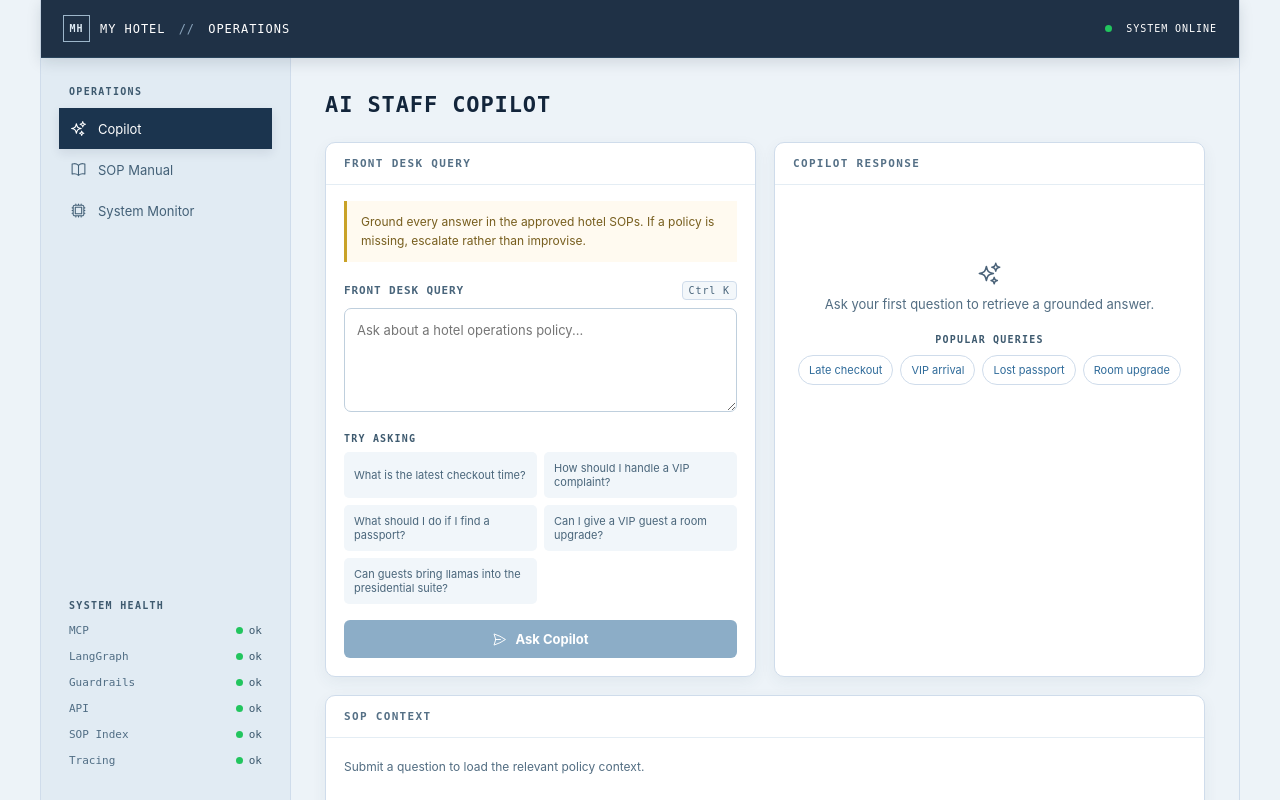
Test: App › shows a request receipt after a demo question hits the API
Step 1. Click the button "What is the latest checkout time?" → (440,475), box [344,452,537,498]
(page scrolled)
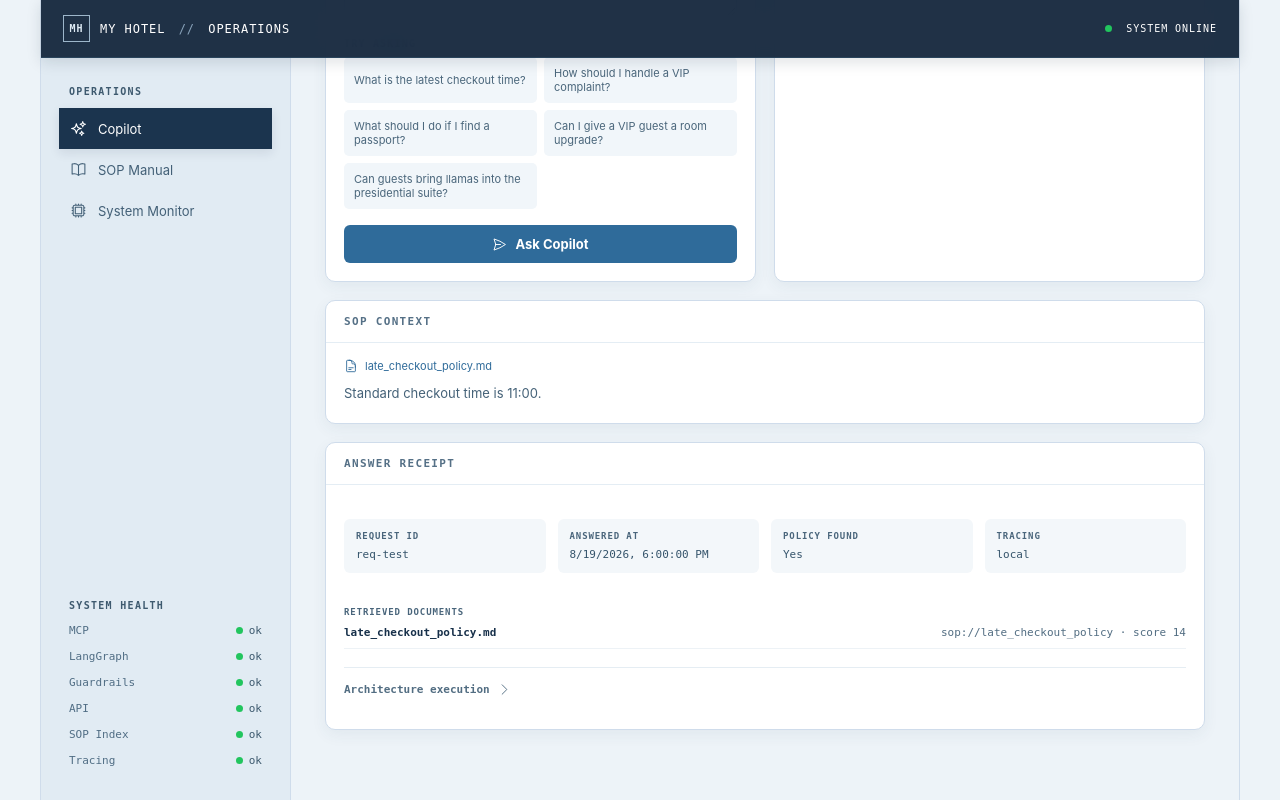
Expected: the heading "ANSWER RECEIPT" is shown, [326,443,1204,485]
Expected: the text "Request ID" is shown, [356,531,419,541]
Expected: the heading "Architecture execution" is shown, [344,682,512,697]
